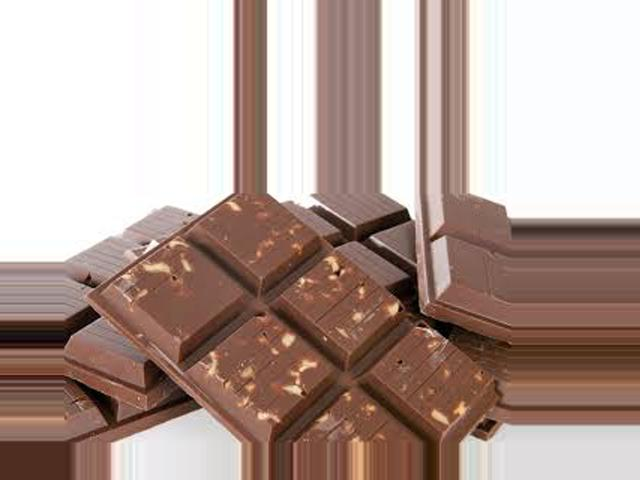chocolate: (116, 195, 495, 444)
